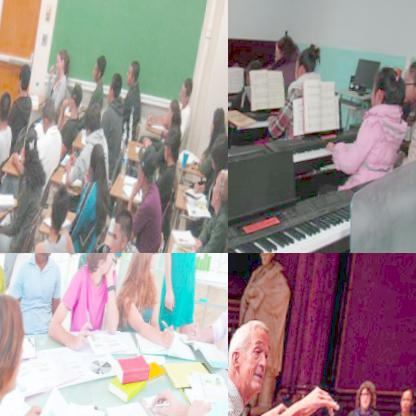head: (0, 289, 39, 410), (228, 318, 276, 394), (369, 63, 408, 113), (136, 136, 165, 192), (48, 182, 75, 236), (108, 207, 139, 253), (296, 42, 325, 82), (83, 253, 122, 279), (20, 123, 43, 167), (87, 142, 110, 184), (84, 100, 108, 140), (163, 124, 185, 166), (400, 53, 416, 108), (273, 32, 300, 63), (211, 160, 228, 209), (132, 253, 168, 276), (208, 101, 228, 141), (40, 98, 60, 135), (67, 80, 86, 115), (358, 379, 379, 410), (210, 133, 228, 169), (90, 52, 110, 82), (17, 60, 34, 94), (179, 74, 196, 108), (54, 45, 71, 78), (166, 96, 183, 128), (107, 73, 125, 102), (127, 56, 143, 87), (400, 385, 416, 412), (0, 92, 13, 125)
